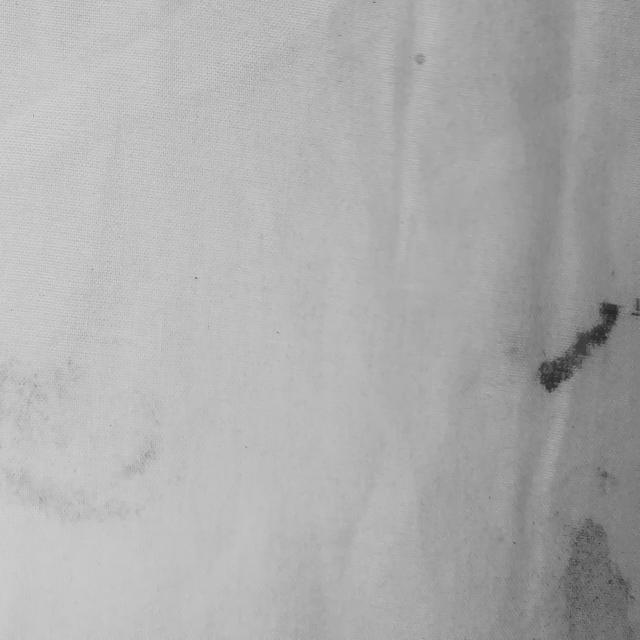Hole: (0, 292, 251, 560), (491, 494, 640, 640), (511, 261, 640, 400), (329, 34, 483, 150)
